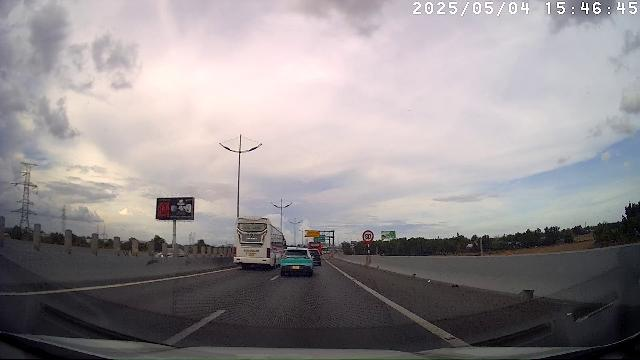127-toc-do-toi-da-60: (362, 230, 374, 242)
